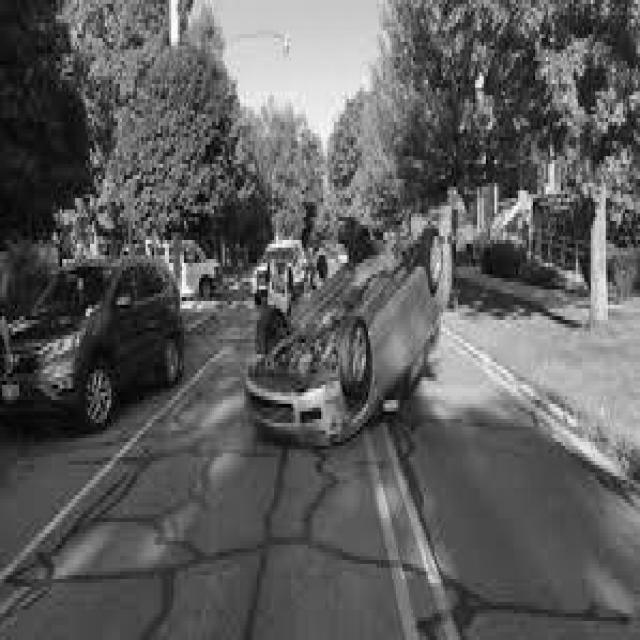severe: (242, 212, 454, 448)
